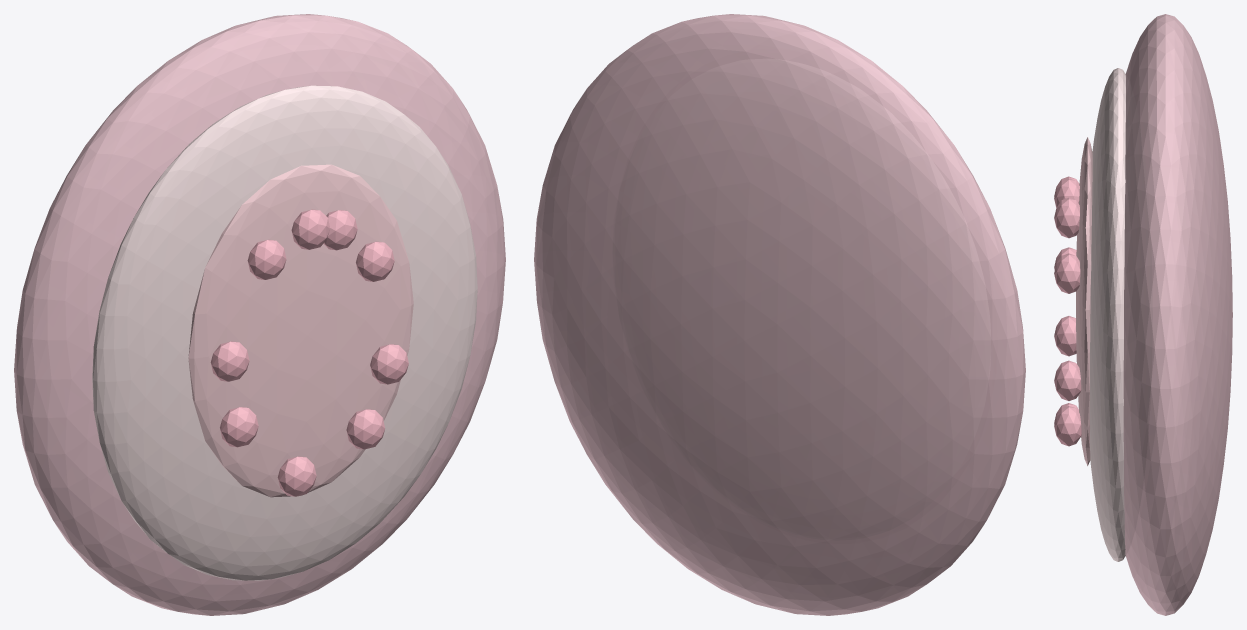
The model's file is hafta_01.glb.
3 renders of one model, left to right at view 1: azimuth 30°, elevation 25°; view 2: azimuth 150°, elevation 25°; view 3: azimuth 270°, elevation 25°, orthographic. The views are drawn at different scales.
Visible parts, largest first — view 1: Rahim_boslugu_ve_ic_zar_2, Rahim_endometriyum_semasi_1, Rahim_boslugu_bolgesi_3, Endometriyal_tabaka_hucresi_5, Endometriyal_tabaka_hucresi_7, Endometriyal_tabaka_hucresi_10, Endometriyal_tabaka_hucresi_8, Endometriyal_tabaka_hucresi_9, Endometriyal_tabaka_hucresi_6, Endometriyal_tabaka_hucresi_11, Endometriyal_tabaka_hucresi_4, Endometriyal_tabaka_hucresi_12; view 2: Rahim_endometriyum_semasi_1; view 3: Rahim_endometriyum_semasi_1, Rahim_boslugu_ve_ic_zar_2, Rahim_boslugu_bolgesi_3, Endometriyal_tabaka_hucresi_5, Endometriyal_tabaka_hucresi_10, Endometriyal_tabaka_hucresi_7, Endometriyal_tabaka_hucresi_12, Endometriyal_tabaka_hucresi_11, Endometriyal_tabaka_hucresi_4.
Boxes of the visible parts, x1=… form: Rahim_boslugu_ve_ic_zar_2: x1=92, y1=85, x2=477, y2=580; Rahim_endometriyum_semasi_1: x1=14, y1=14, x2=505, y2=615; Rahim_boslugu_bolgesi_3: x1=188, y1=164, x2=413, y2=497; Endometriyal_tabaka_hucresi_5: x1=346, y1=409, x2=385, y2=449; Endometriyal_tabaka_hucresi_7: x1=356, y1=241, x2=394, y2=281; Endometriyal_tabaka_hucresi_10: x1=370, y1=344, x2=408, y2=384; Endometriyal_tabaka_hucresi_8: x1=277, y1=456, x2=316, y2=496; Endometriyal_tabaka_hucresi_9: x1=247, y1=239, x2=286, y2=279; Endometriyal_tabaka_hucresi_6: x1=210, y1=341, x2=249, y2=381; Endometriyal_tabaka_hucresi_11: x1=220, y1=407, x2=258, y2=447; Endometriyal_tabaka_hucresi_4: x1=291, y1=209, x2=330, y2=249; Endometriyal_tabaka_hucresi_12: x1=323, y1=210, x2=357, y2=250; Rahim_endometriyum_semasi_1: x1=534, y1=14, x2=1025, y2=615; Rahim_endometriyum_semasi_1: x1=1123, y1=14, x2=1232, y2=615; Rahim_boslugu_ve_ic_zar_2: x1=1089, y1=68, x2=1125, y2=561; Rahim_boslugu_bolgesi_3: x1=1076, y1=137, x2=1092, y2=465; Endometriyal_tabaka_hucresi_5: x1=1054, y1=406, x2=1081, y2=446; Endometriyal_tabaka_hucresi_10: x1=1054, y1=360, x2=1081, y2=400; Endometriyal_tabaka_hucresi_7: x1=1054, y1=253, x2=1080, y2=293; Endometriyal_tabaka_hucresi_12: x1=1054, y1=197, x2=1079, y2=238; Endometriyal_tabaka_hucresi_11: x1=1054, y1=316, x2=1076, y2=356; Endometriyal_tabaka_hucresi_4: x1=1054, y1=178, x2=1079, y2=207.
Size of the model in its own units: 5.4 by 6.24 by 1.81.
